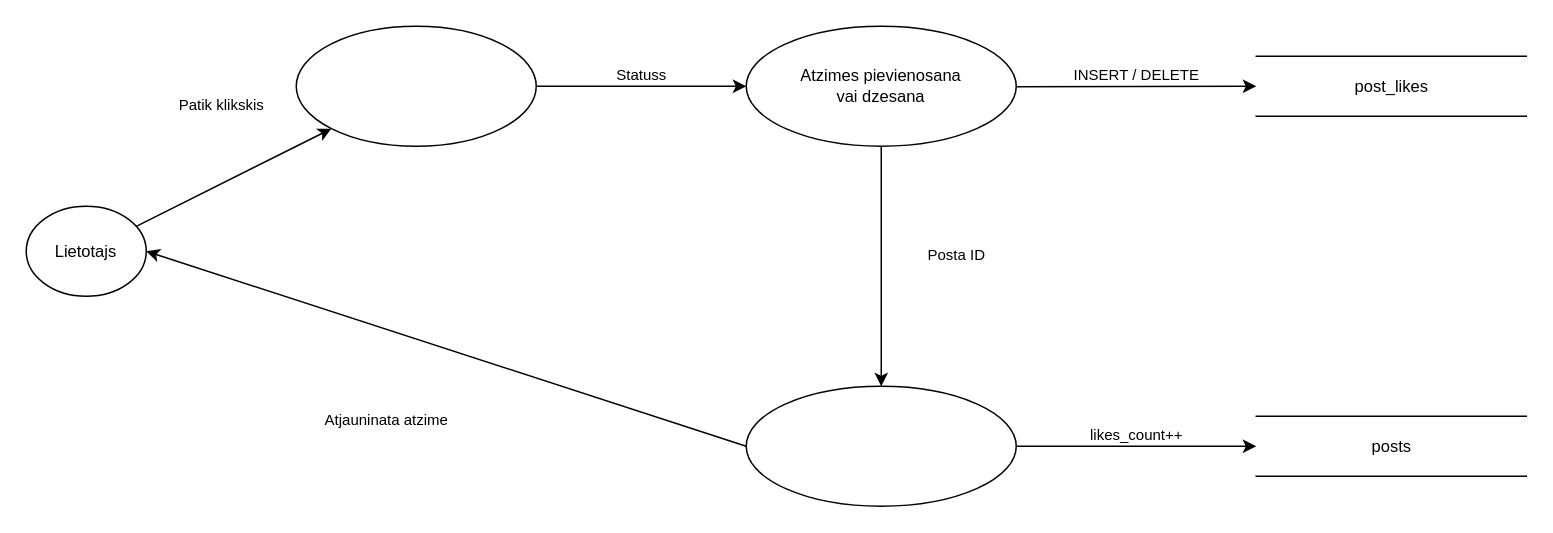
The diagram is 1553 pixels wide and 533 high, and some of its shapes have lost their labels. Each missing label, with the centre of its shape:
Atjauninat skaititaju: the point at 880,445
Esosas atzimes parbaude: the point at 415,85
